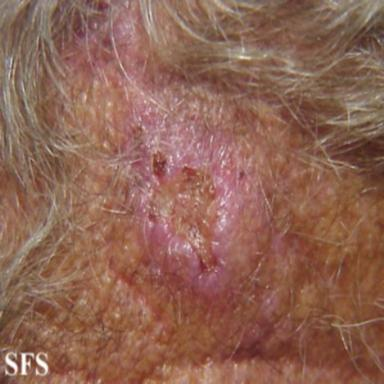basal-cell-carcinoma: (57, 0, 245, 305)
